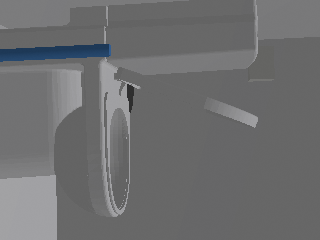lid_1: (117, 68, 259, 127)
